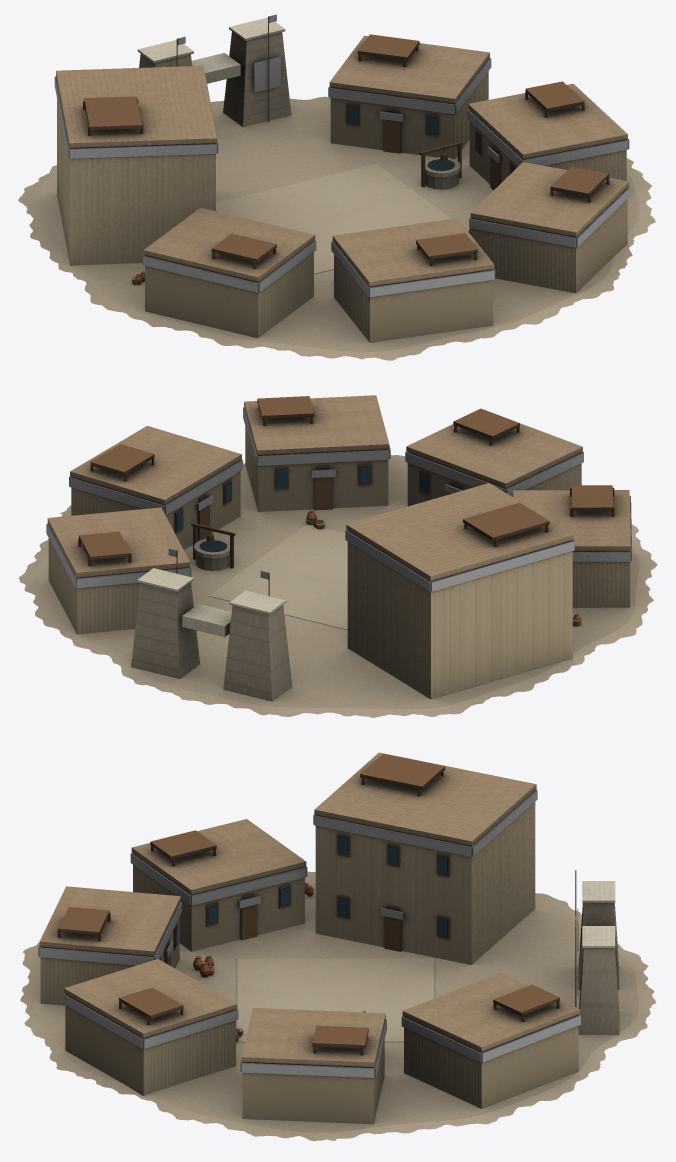
Rendered from bronze-town-small-a-nile.glb.
The picture shows the model from 3 angles, top to bottom: view 1: azimuth 30°, elevation 25°; view 2: azimuth 150°, elevation 25°; view 3: azimuth 270°, elevation 25°; orthographic projection.
Visible parts, largest first — view 1: LOD0; view 2: LOD0; view 3: LOD0.
Boxes of the visible parts, <box> form: LOD0: <box>18,14,655,360</box>; LOD0: <box>19,395,657,717</box>; LOD0: <box>20,752,656,1141</box>.
Size of what is drawn, in the model's own units: 4 by 0.9282 by 3.94.
Materials: 3 (3 with a texture image).
